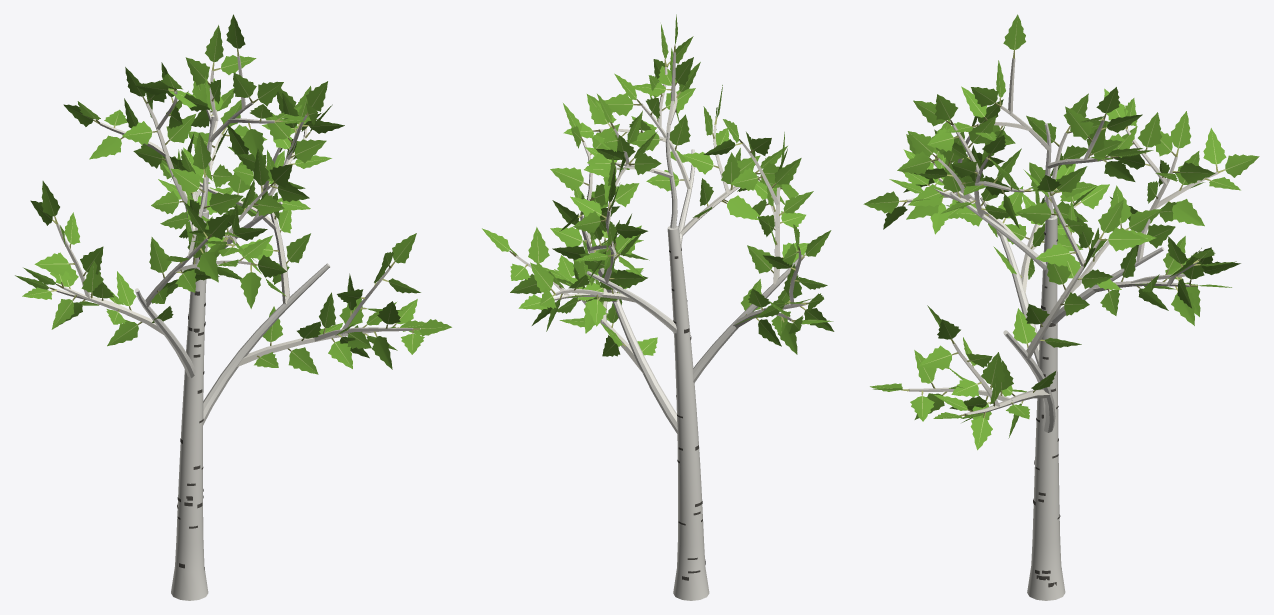
3 views of the same model, side by side, from view 1: azimuth 30°, elevation 25°; view 2: azimuth 150°, elevation 25°; view 3: azimuth 270°, elevation 25° (orthographic). The views are drawn at different scales.
Visible parts, largest first — view 1: body; view 2: body; view 3: body.
Boxes of the visible parts, x1,y1,x2,y2 form: body: [15, 14, 451, 600]; body: [482, 14, 834, 600]; body: [863, 14, 1259, 600].
Size of the model in its own units: 2.36 by 3.71 by 2.25.
1 material, 1 textured.
